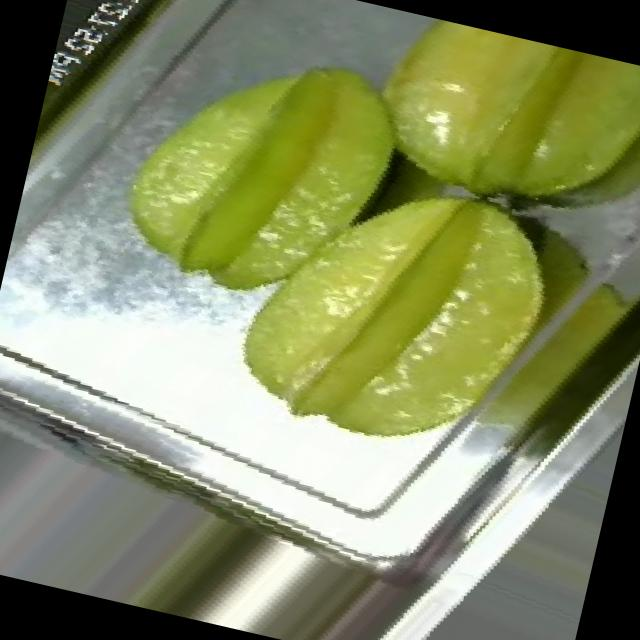fruit: (59, 0, 575, 415)
